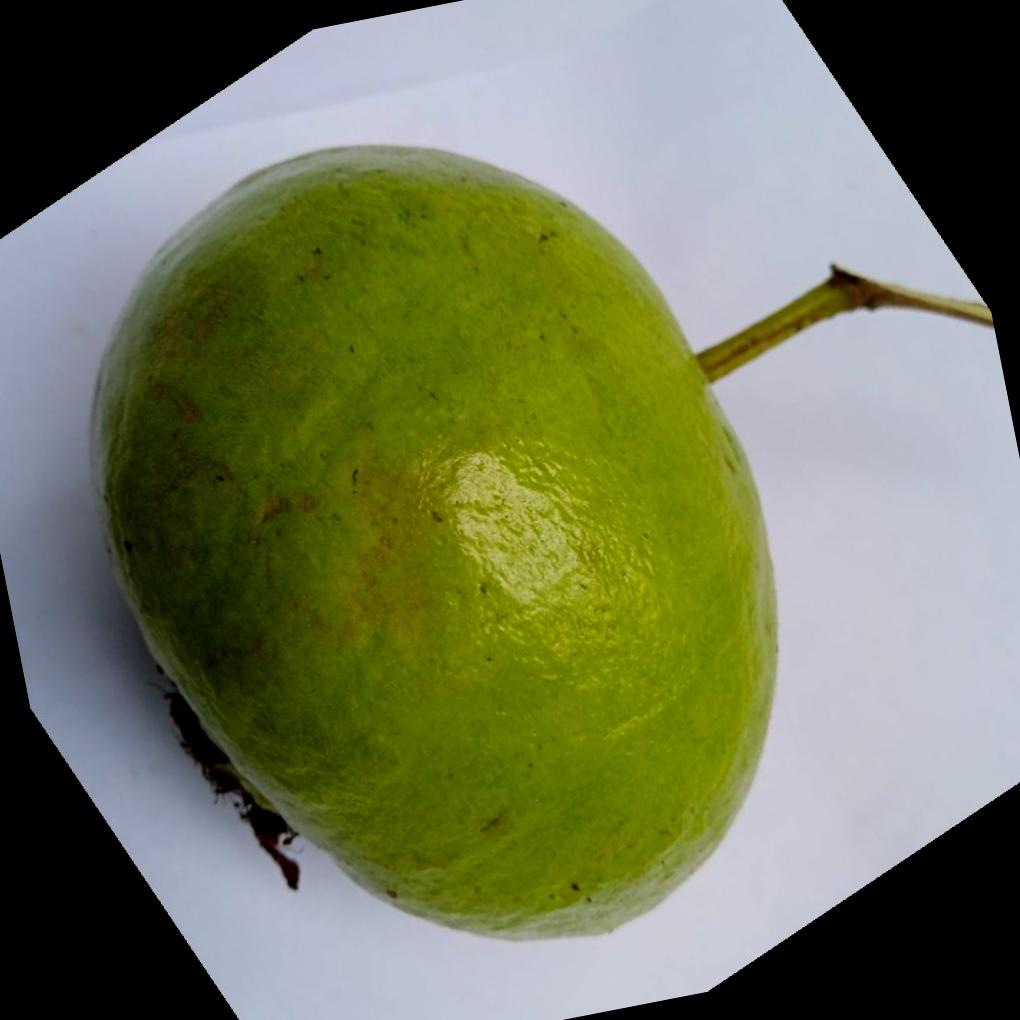FreshGuava: (86, 143, 776, 943)
